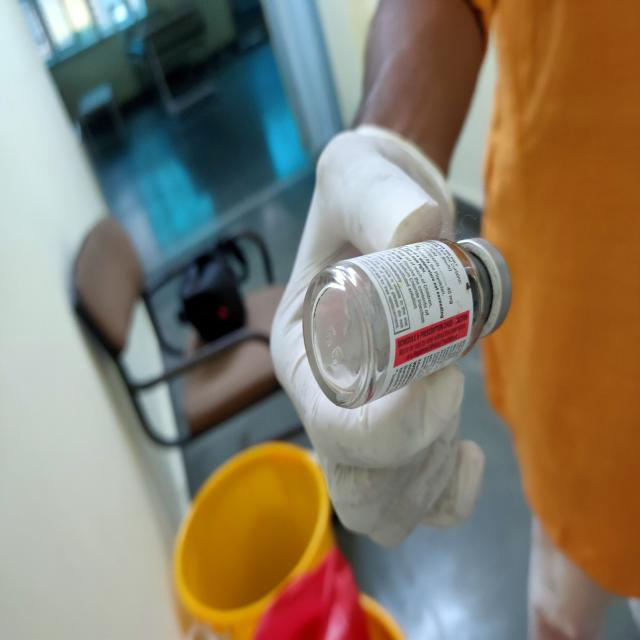B3: (300, 237, 514, 408)
